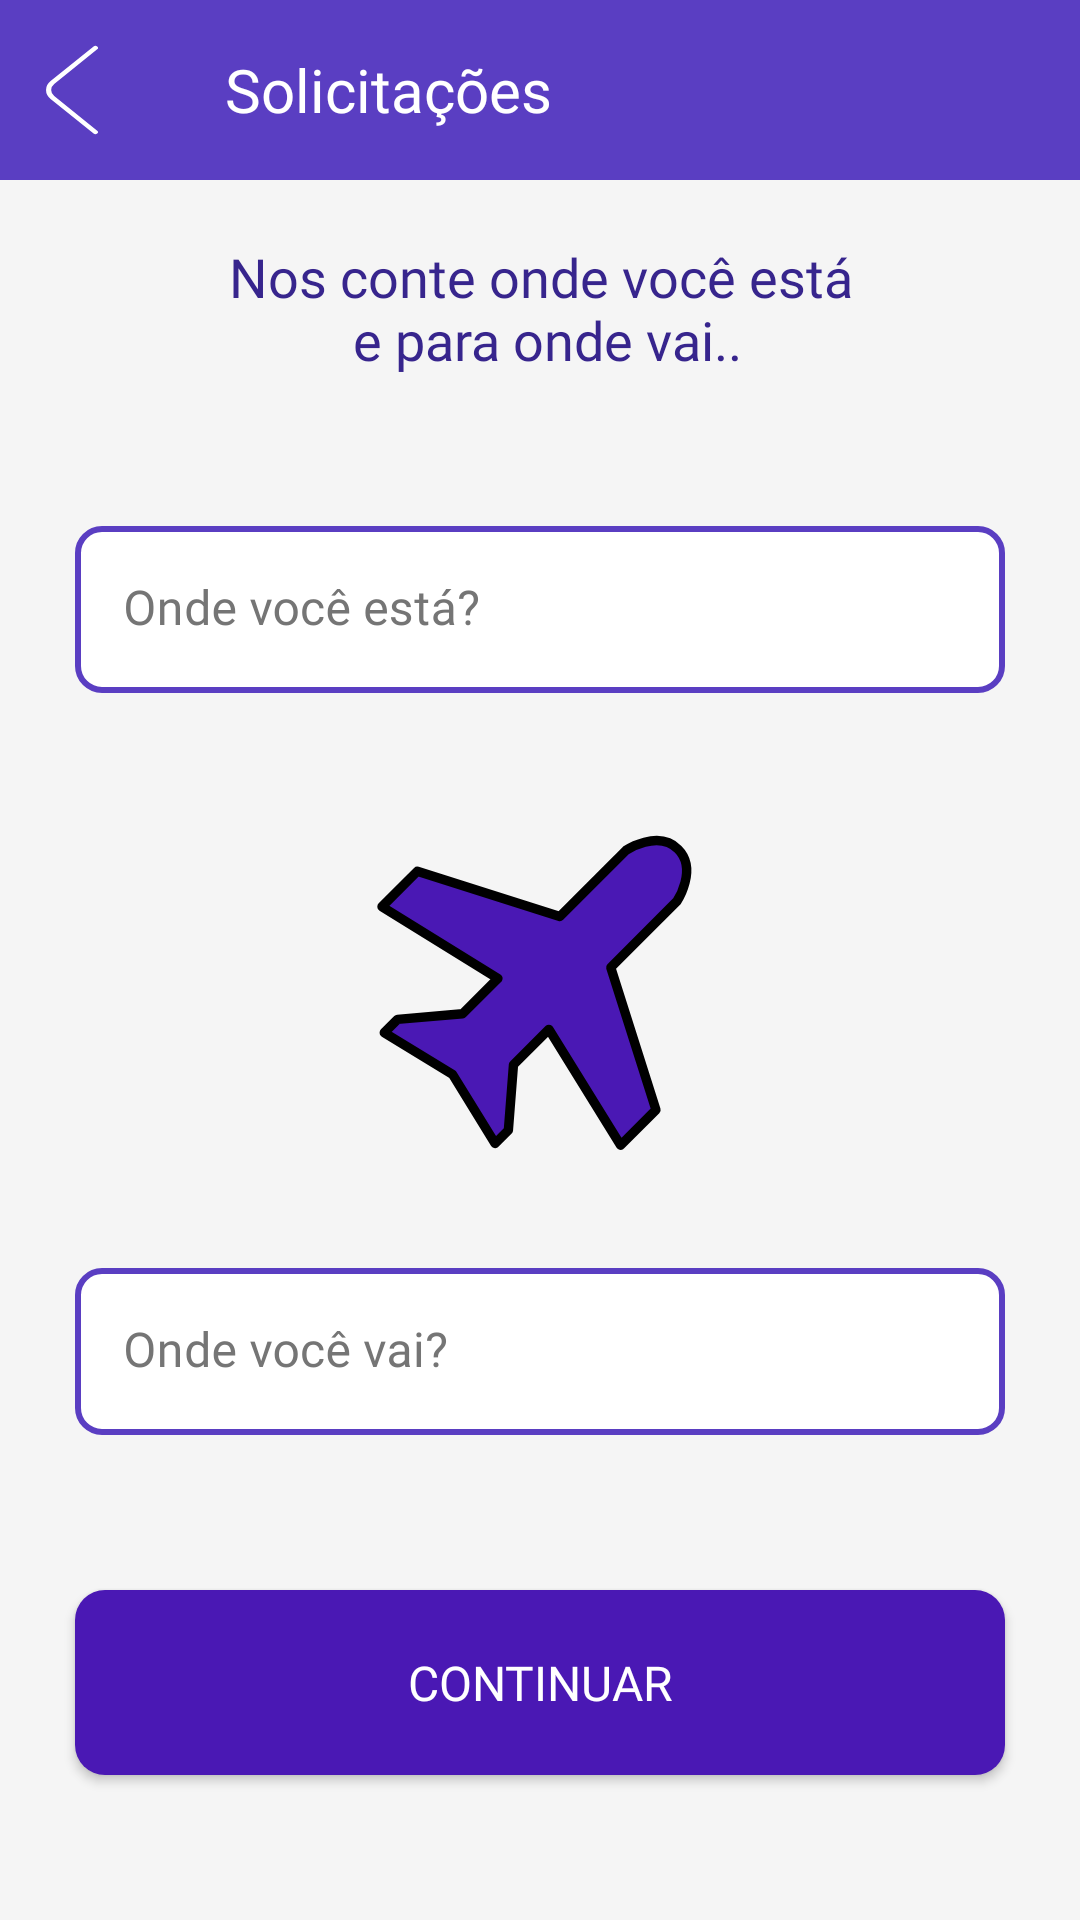

Icon bounding boxes for this 1080×1920 phone screenshot, format (x1, y1, x2, y2):
plane: (377, 835, 692, 1150)
seta voltar constrast: (46, 45, 98, 135)
